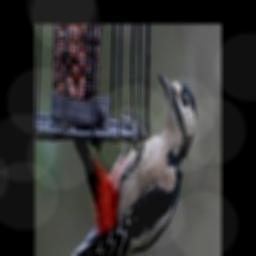Woodpecker: (71, 72, 196, 256)
